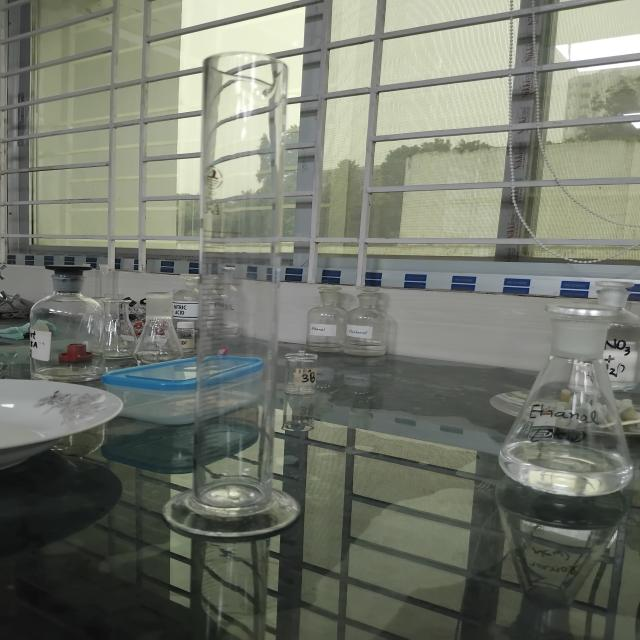Conical_Flask: (481, 277, 640, 535)
Measuring_Cylinder: (142, 27, 337, 567)
